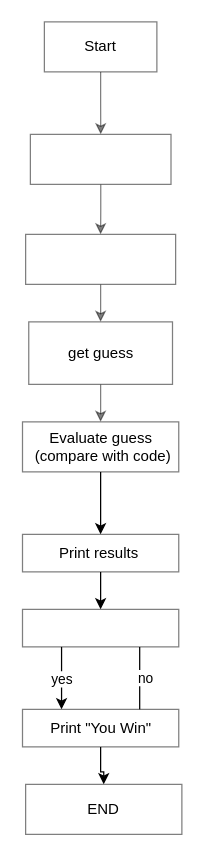
This 204x856 diagram has some shape labels left out. Here are the shapes that lost their labels. From the top down, the centre of each, then its label:
(100,158): Initialize variables
(100,258): Generate secret code
(100,627): correctPos==n?
